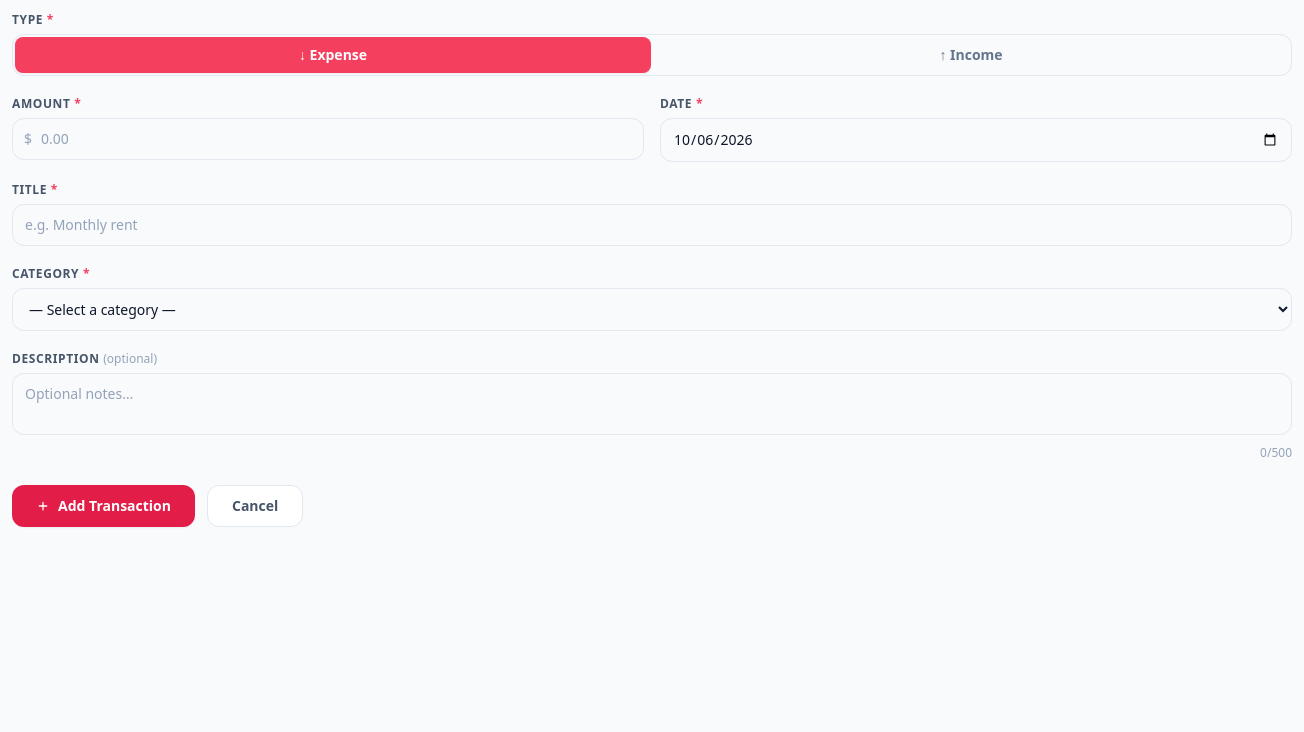
Test: TransactionForm › displays validation errors › shows an error when category is not selected
In the field labelled "Title *": (652, 225) [12, 204, 1292, 246], type "Test"
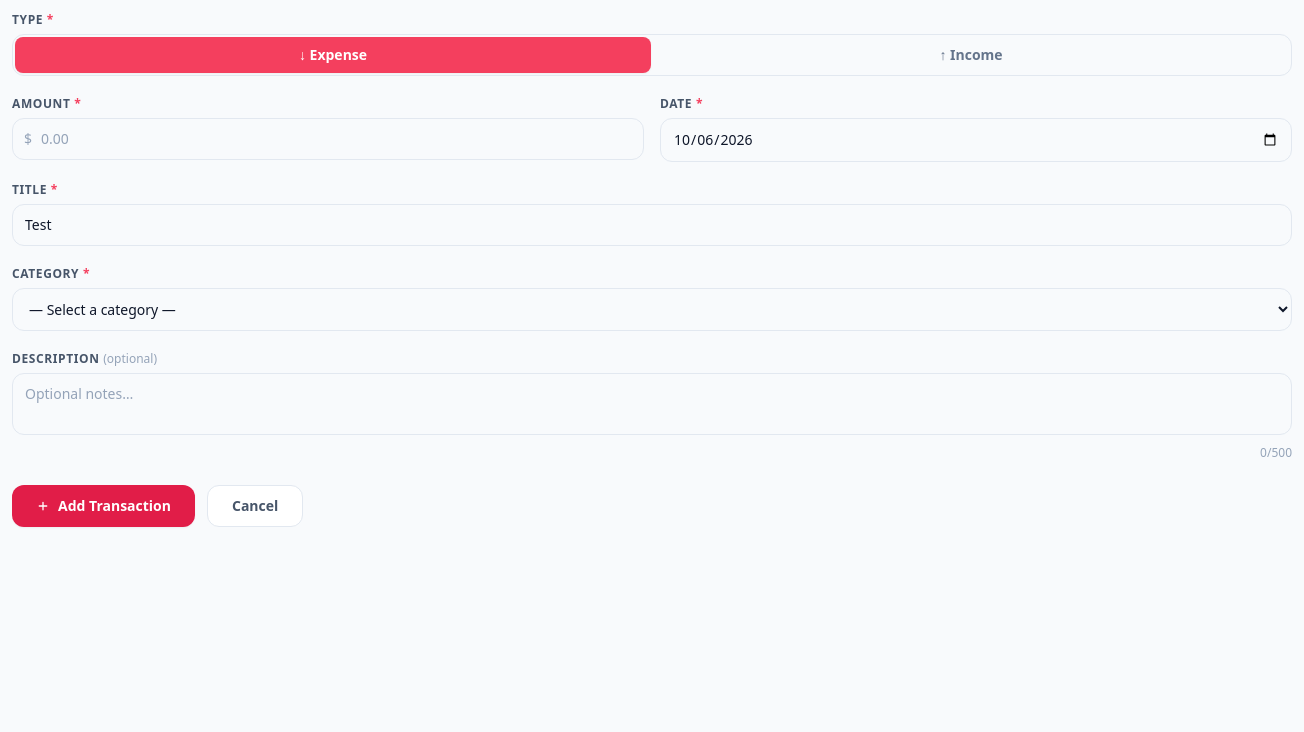
In the number field labelled "Amount *": (328, 139) [12, 118, 644, 160], type "10"
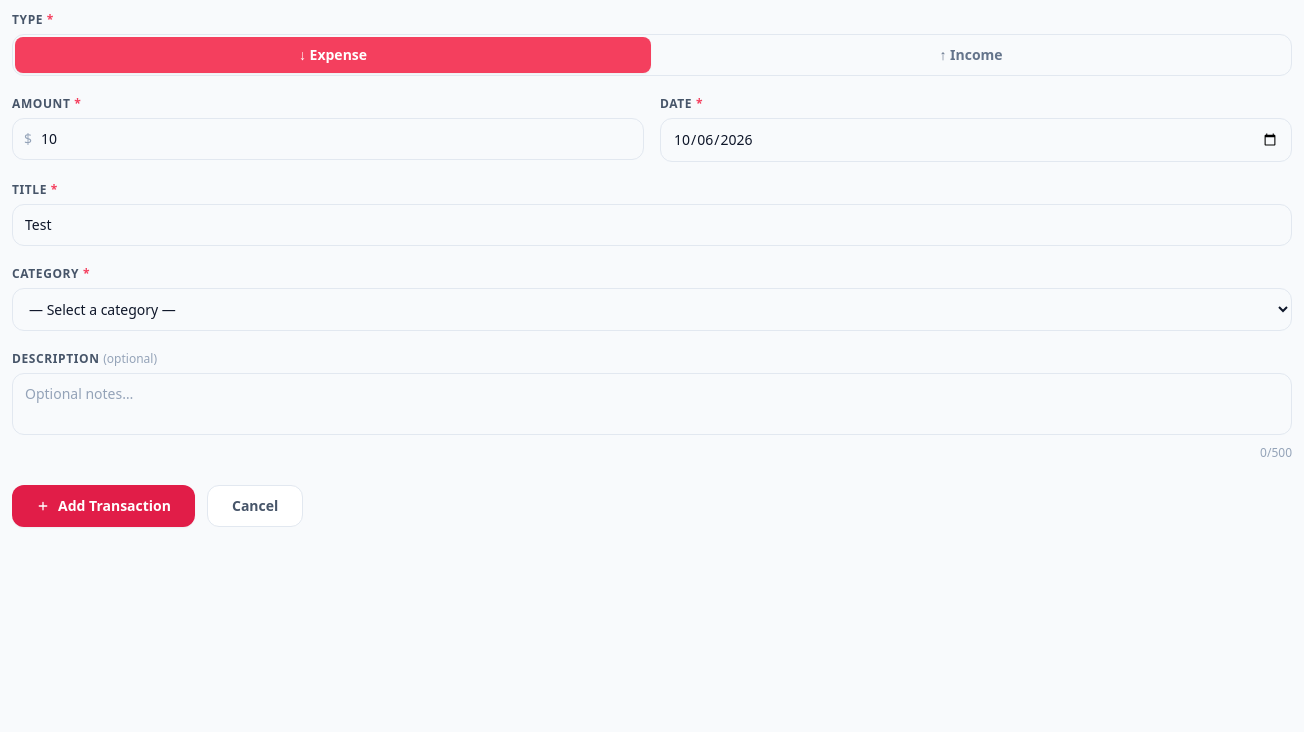
Submit the form
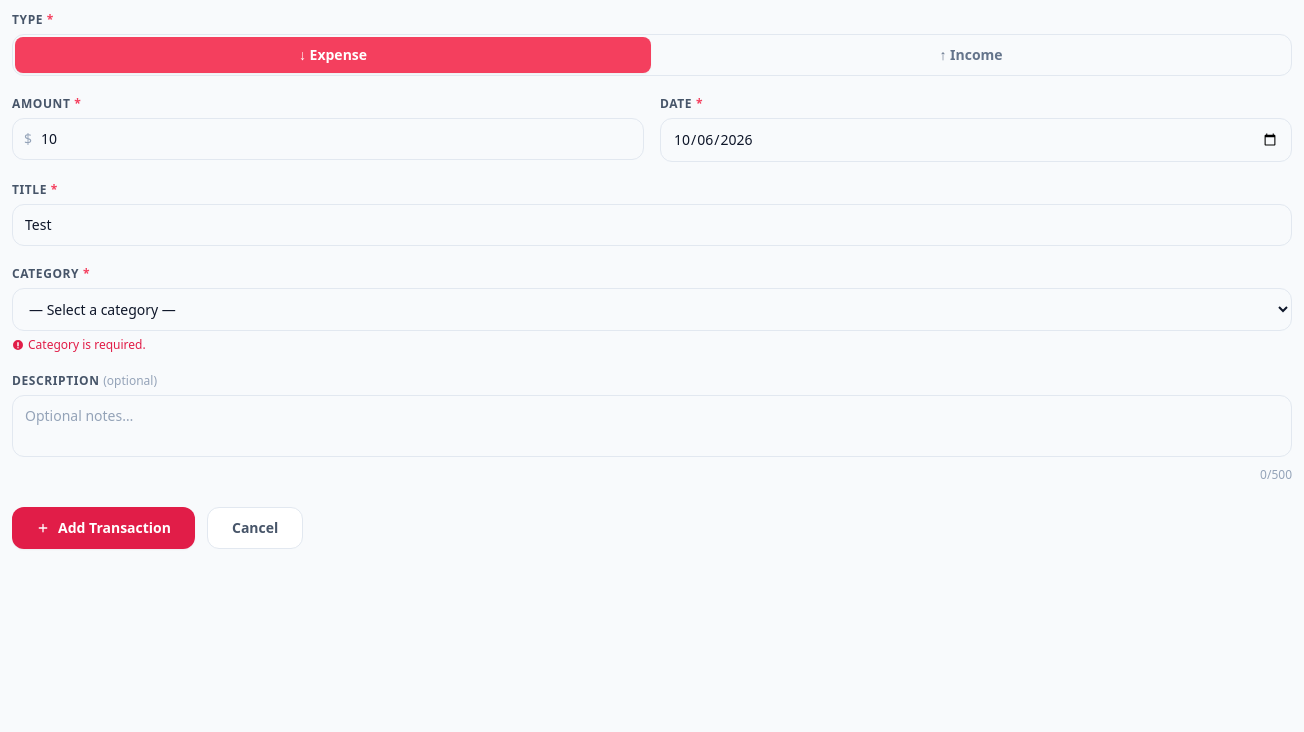
Expected: the text "Category is required." is shown, [12, 336, 146, 353]
